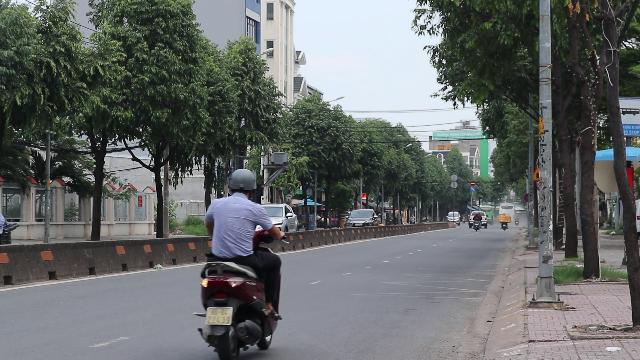helmet: (226, 167, 258, 196)
licenseplate: (205, 307, 232, 325)
motorcyclist: (192, 166, 286, 360)
